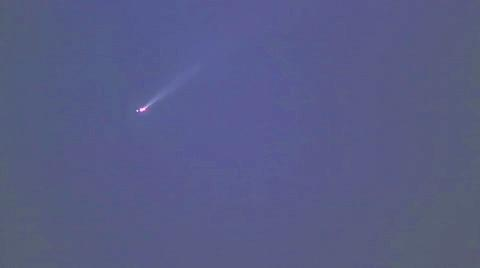Plane: (122, 76, 195, 121)
